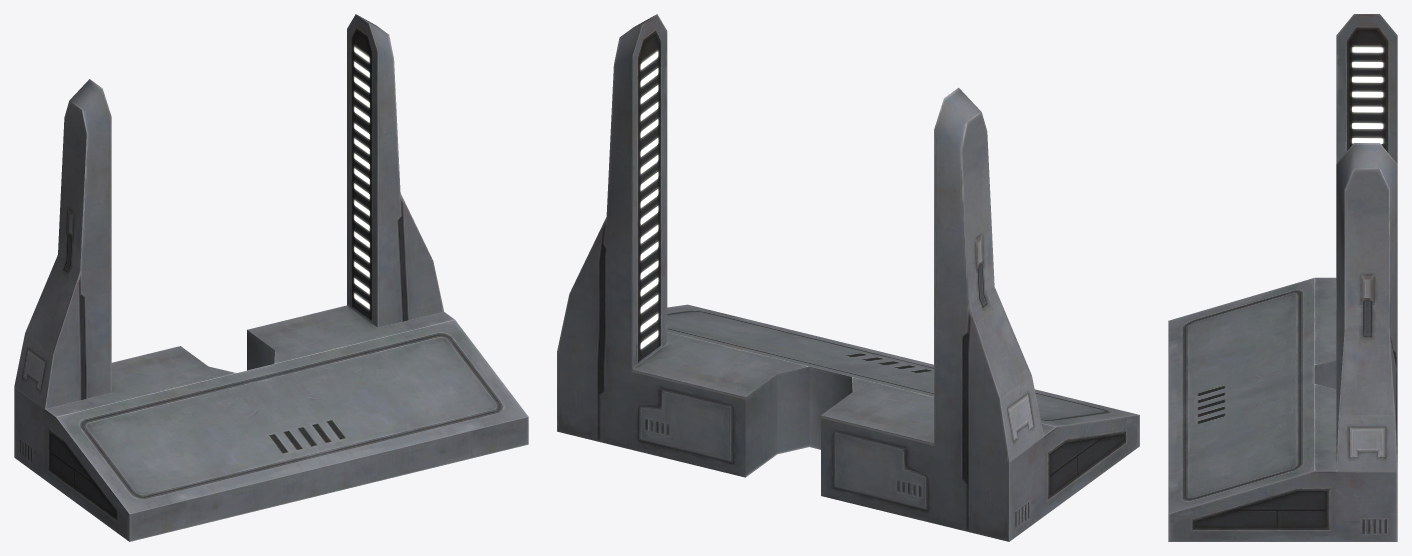
File: all_item_imp_scaffold_elevator_platform.glb
The picture shows the model from 3 angles, left to right: view 1: azimuth 30°, elevation 25°; view 2: azimuth 150°, elevation 25°; view 3: azimuth 270°, elevation 25°; orthographic projection. The views are drawn at different scales.
Visible parts, largest first — view 1: all_item_imp_scaffold_elevator_platform; view 2: all_item_imp_scaffold_elevator_platform; view 3: all_item_imp_scaffold_elevator_platform.
Part boxes in pixels (x1=…): all_item_imp_scaffold_elevator_platform: x1=14, y1=14, x2=528, y2=541; all_item_imp_scaffold_elevator_platform: x1=557, y1=14, x2=1139, y2=541; all_item_imp_scaffold_elevator_platform: x1=1168, y1=14, x2=1397, y2=541.
Bounding box in the file's own units: 0.6 × 0.5299 × 0.3.
Materials: 1 (1 with a texture image).
